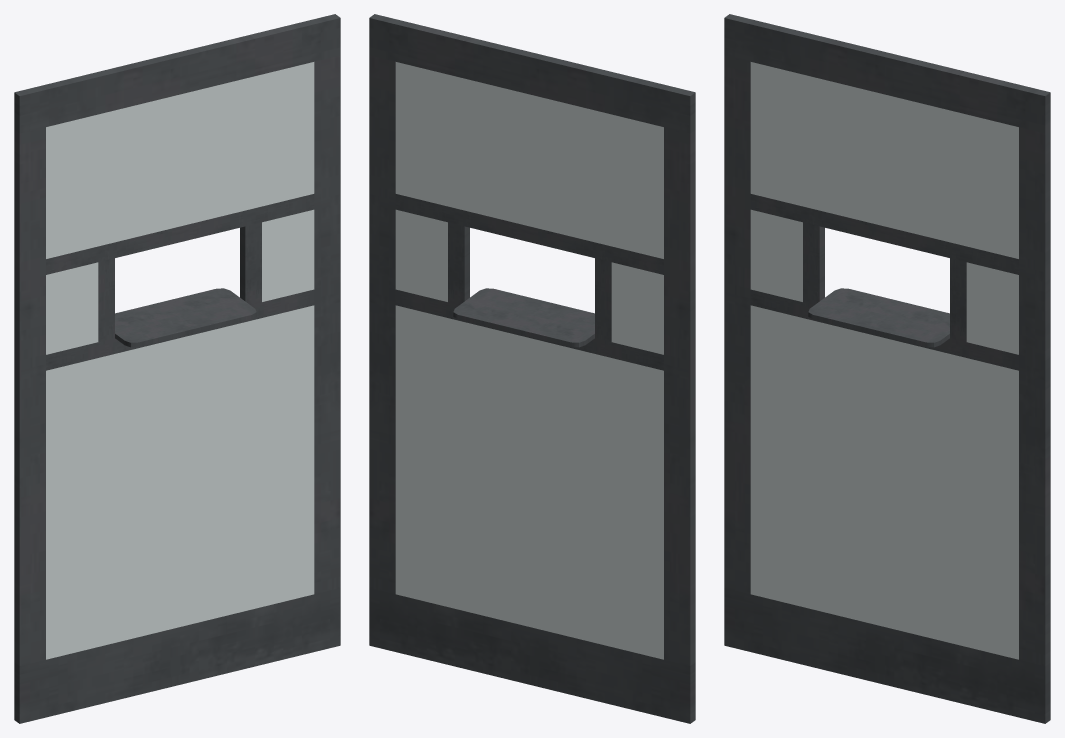
Rendered from door.fbx.
The picture shows the model from 3 angles, left to right: view 1: azimuth 30°, elevation 25°; view 2: azimuth 150°, elevation 25°; view 3: azimuth 330°, elevation 25°; orthographic projection.
Parts seen in each view (by area): view 1: door_007; view 2: door_007; view 3: door_007.
Part boxes in pixels (left/top/right/bottom): door_007: left=14, top=14, right=340, bottom=723; door_007: left=369, top=14, right=695, bottom=723; door_007: left=724, top=14, right=1050, bottom=723.
Bounding box in the file's own units: 1.24 × 2.32 × 0.2386.
